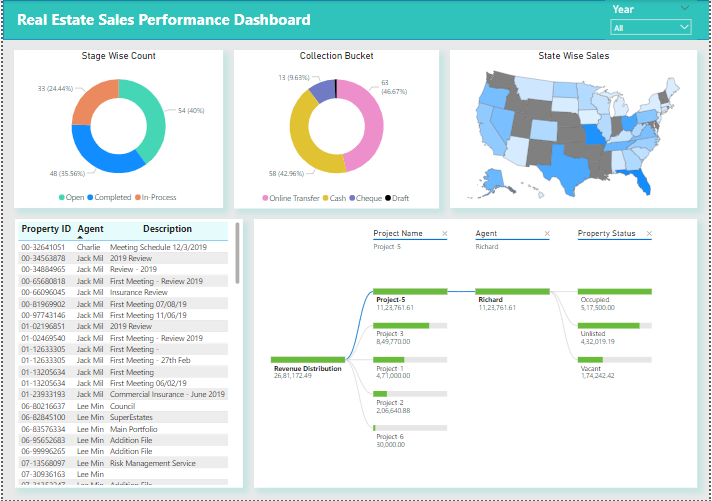

Layout of this report page (visuals, bound fields, positions):
{"tool":"powerbi","page":{"name":"Dashboard 2","canvas":[1242,880],"ordinal":1},"visuals":[{"type":"shapeMap","title":" State Wise Sales","fields":{"Category":["Real Estate Data.State"],"Value":["DimDate.Total Sales"]},"box":[786.1,88.6,435.4,278.5],"z":0},{"type":"donutChart","title":"Stage Wise Count","fields":{"Category":["Real Estate Data.Stage Name"],"Y":["Real Estate Data.Stage Name"]},"box":[19,88.6,368.4,278.5],"z":1000},{"type":"donutChart","title":"Collection Bucket","fields":{"Category":["Real Estate Data.Collection Bucket"],"Y":["Real Estate Data.Collection Bucket"]},"box":[406.2,88,361.5,279.2],"z":2000},{"type":"tableEx","title":"f","fields":{"Values":["Real Estate Data.Property ID","Real Estate Data.Agent","Real Estate Data.Description"]},"box":[20.3,386.1,401.3,473.4],"z":3000},{"type":"decompositionTreeVisual","fields":{"Analyze":["Real Estate Data.Revenue"],"ExplainBy":["Real Estate Data.Project Name","Real Estate Data.Agent","Real Estate Data.Property Status"]},"box":[441.8,386.1,779.7,473.4],"z":4000},{"type":"shape","box":[0,0,1320,70],"z":5000},{"type":"slicer","fields":{"Values":["DimDate.Date.Variation.Date Hierarchy.Year"]},"box":[1060,0,162,70],"z":6000},{"type":"textbox","box":[19.4,10.6,667,49.3],"z":7000}]}

Visuals, with their boxes in screenshot pixels (x1, y1, x2, y2), scaled from the page's 1242x880 canvas onto the 712x501 screenshot:
" State Wise Sales" shapeMap: 451, 50, 700, 209
"Stage Wise Count" donutChart: 11, 50, 222, 209
"Collection Bucket" donutChart: 233, 50, 440, 209
"f" tableEx: 12, 220, 242, 489
decompositionTreeVisual - Real Estate Data.Revenue x Real Estate Data.Project Name: 253, 220, 700, 489
shape: 0, 0, 711, 40
slicer - DimDate.Date.Variation.Date Hierarchy.Year: 608, 0, 701, 40
textbox: 11, 6, 393, 34
